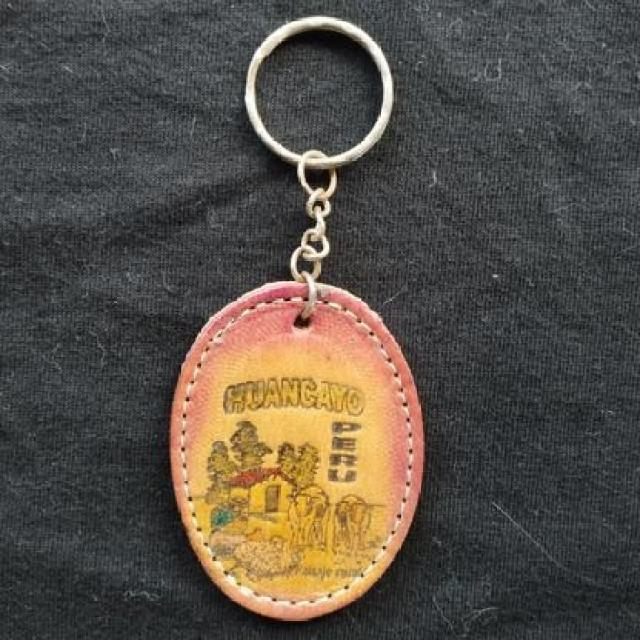Llavero: (168, 278, 426, 622)
